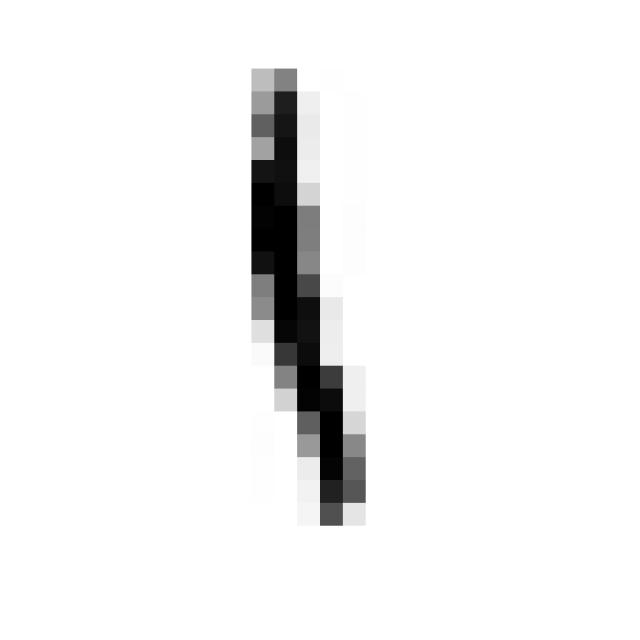1 -one-: (222, 48, 382, 541)
